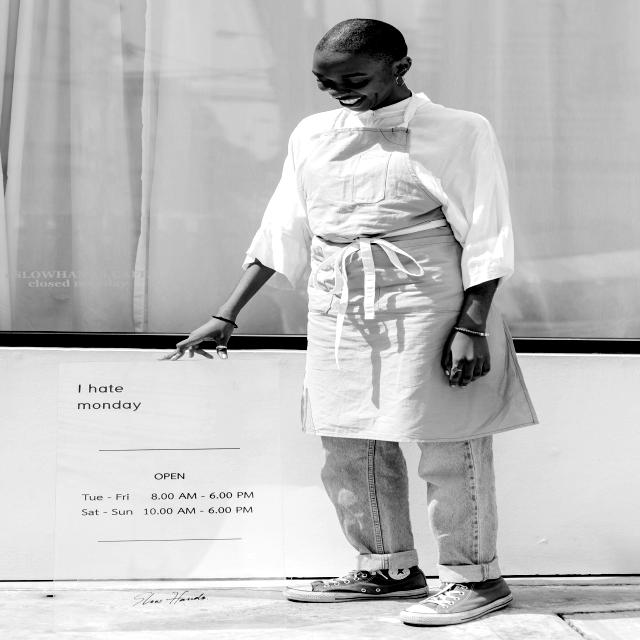No-Boots: (397, 571, 527, 626), (282, 566, 434, 604)
No-Vest: (293, 109, 486, 392)
